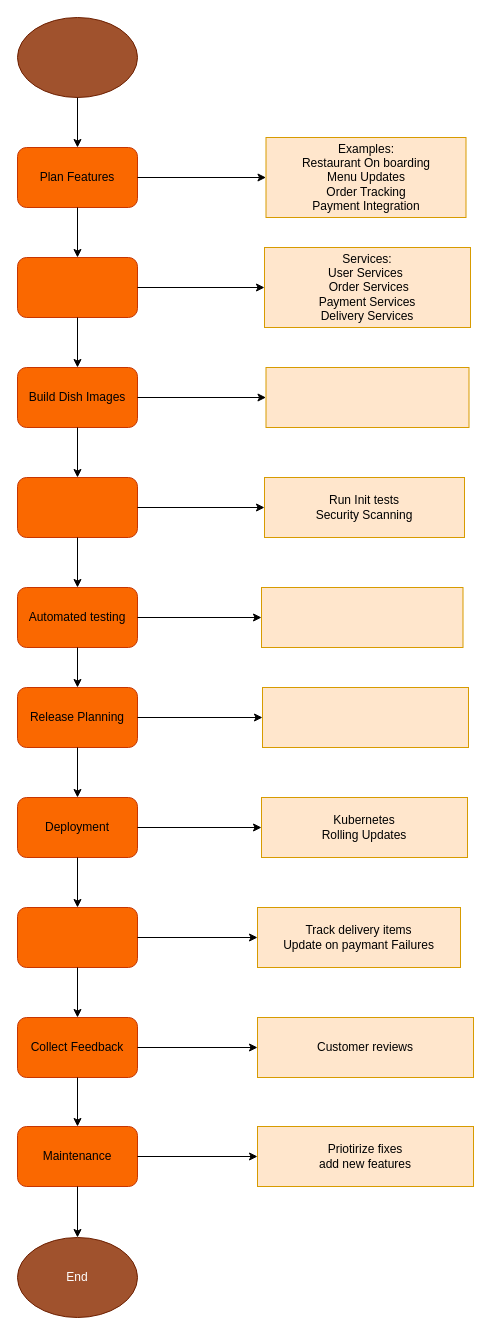
The diagram is 491 pixels wide and 1335 high, and some of its shapes have lost their labels. Each missing label, with the centre of its shape:
Continuous Integratatoin: the point at 77,507
Develop Code: the point at 77,287
Dish image storing: Store Images in Registry: the point at 367,397
Integration test Order placement: the point at 361,617
Operate and Monitor: the point at 77,937
Start: the point at 77,57
Using with QA: the point at 365,717
